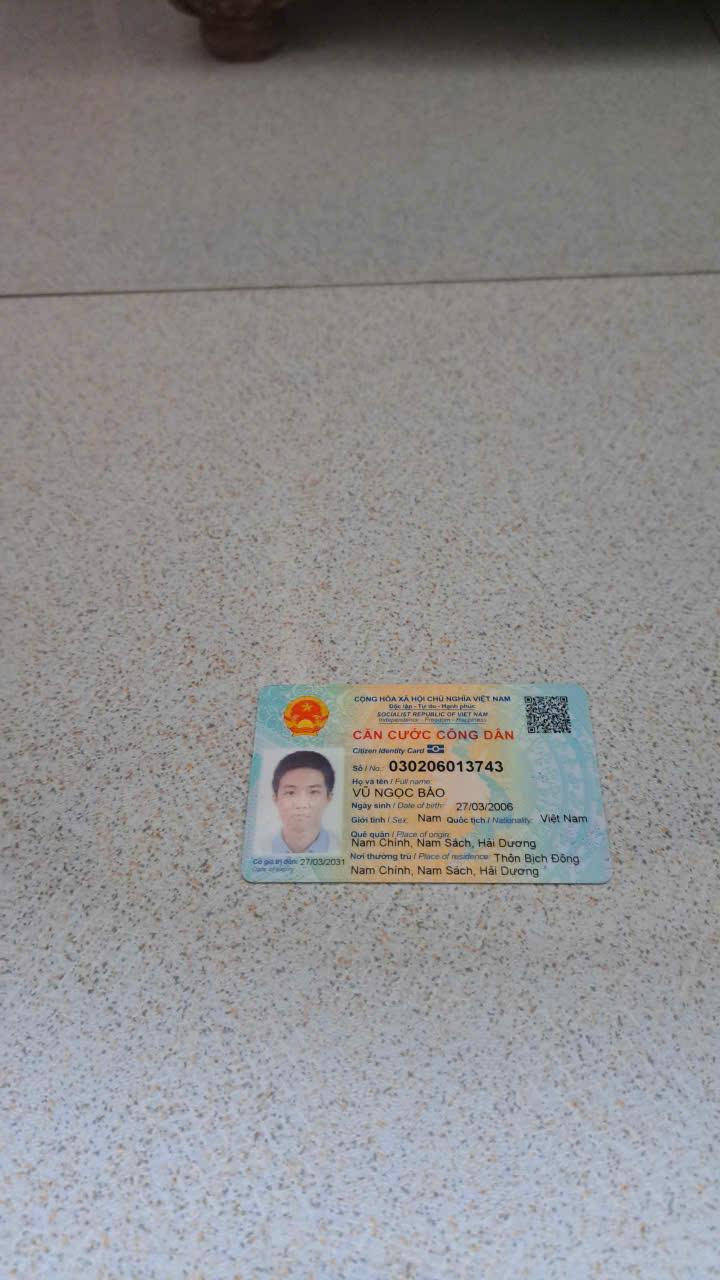cccd: (232, 668, 618, 895)
